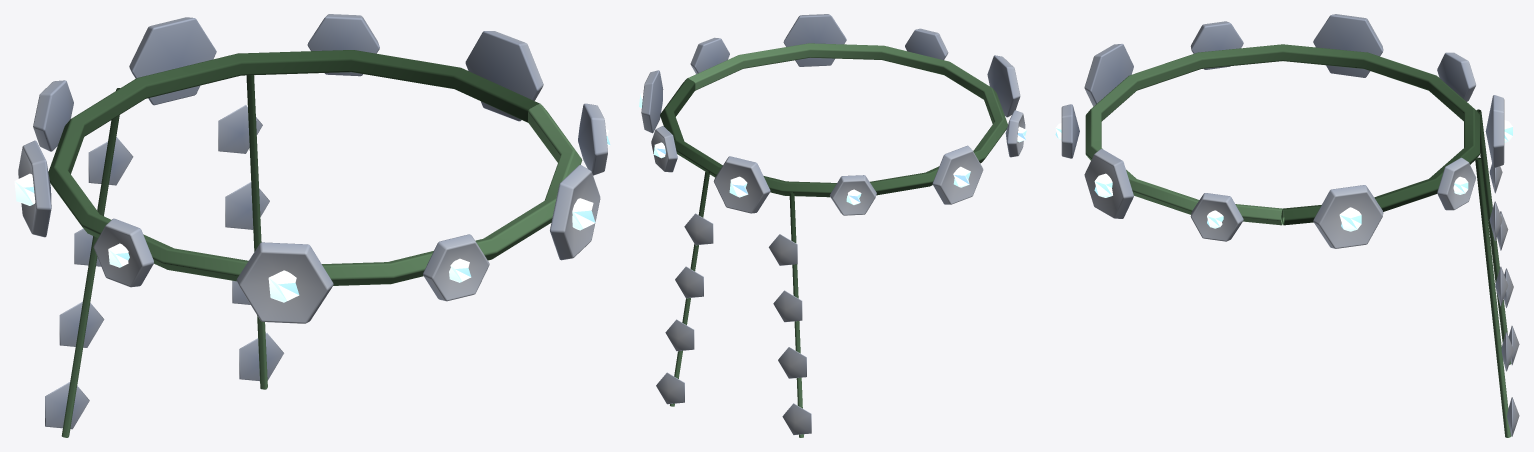
File: lg_banshee_garland.glb
The picture shows the model from 3 angles, left to right: view 1: azimuth 30°, elevation 25°; view 2: azimuth 150°, elevation 25°; view 3: azimuth 270°, elevation 25°; orthographic projection. The views are drawn at different scales.
Parts seen in each view (by area): view 1: lg_banshee_garland, lg_banshee_garland_glow; view 2: lg_banshee_garland, lg_banshee_garland_glow; view 3: lg_banshee_garland, lg_banshee_garland_glow.
Part boxes in pixels (x1=…): lg_banshee_garland: x1=18, y1=14, x2=607, y2=437; lg_banshee_garland_glow: x1=14, y1=129, x2=610, y2=302; lg_banshee_garland: x1=641, y1=14, x2=1025, y2=437; lg_banshee_garland_glow: x1=639, y1=93, x2=1026, y2=204; lg_banshee_garland: x1=1061, y1=14, x2=1519, y2=437; lg_banshee_garland_glow: x1=1055, y1=120, x2=1512, y2=231.
Bounding box in the file's own units: 2.35 × 1.75 × 2.47.
